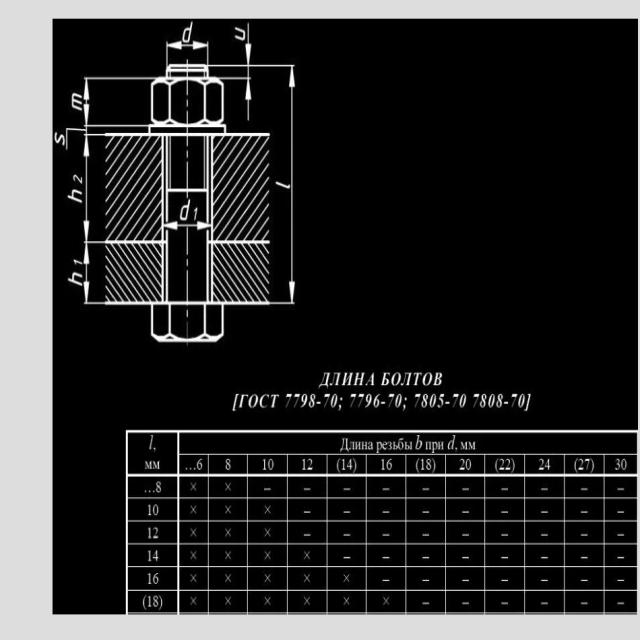marking_line: (289, 67, 295, 303), (82, 138, 90, 239), (166, 39, 206, 53), (81, 245, 90, 301), (243, 23, 253, 65), (165, 222, 209, 231), (243, 79, 252, 122), (82, 81, 91, 122)
numeric: (612, 457, 631, 474), (146, 546, 162, 565), (147, 523, 161, 542), (380, 457, 395, 472), (418, 458, 433, 473), (147, 594, 161, 610), (261, 459, 278, 472), (537, 458, 552, 472), (578, 457, 591, 473), (499, 457, 511, 474), (341, 458, 355, 472), (147, 571, 160, 586), (223, 456, 234, 473), (460, 458, 473, 471), (148, 502, 159, 517), (302, 458, 313, 471), (156, 477, 163, 496), (196, 457, 204, 470)
special_symbol: (62, 124, 85, 151)
